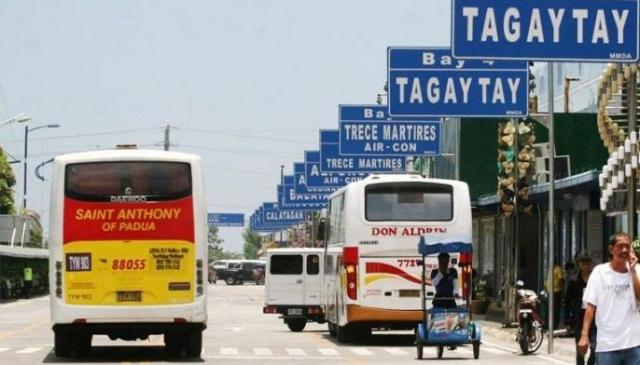bus: (47, 142, 209, 362), (326, 177, 469, 342)
motorcycle: (512, 279, 546, 355)
van: (261, 243, 333, 332)
